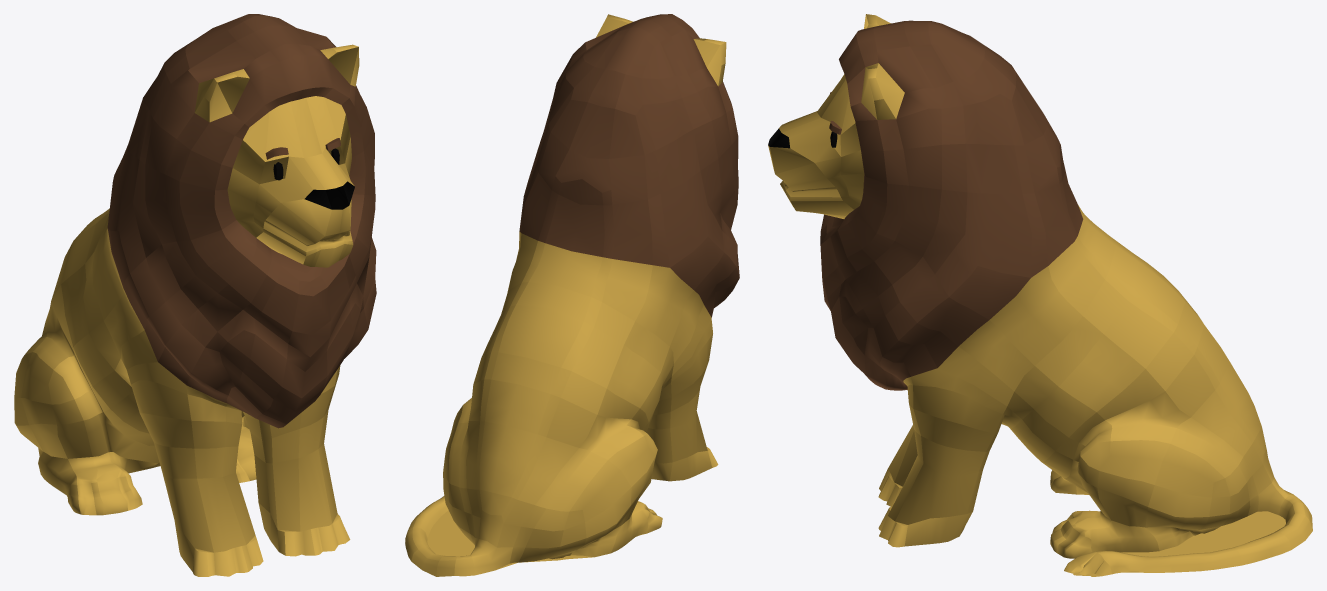
File: Lion_fbx.fbx
3 views of the same model, side by side, from view 1: azimuth 30°, elevation 25°; view 2: azimuth 150°, elevation 25°; view 3: azimuth 270°, elevation 25° (orthographic). The views are drawn at different scales.
Visible parts, largest first — view 1: pCube6; view 2: pCube6; view 3: pCube6.
Boxes of the visible parts, <box> form: pCube6: <box>14,14,376,576</box>; pCube6: <box>405,14,739,576</box>; pCube6: <box>768,14,1312,576</box>.
Bounding box in the file's own units: 7.55 × 14.74 × 14.89.
